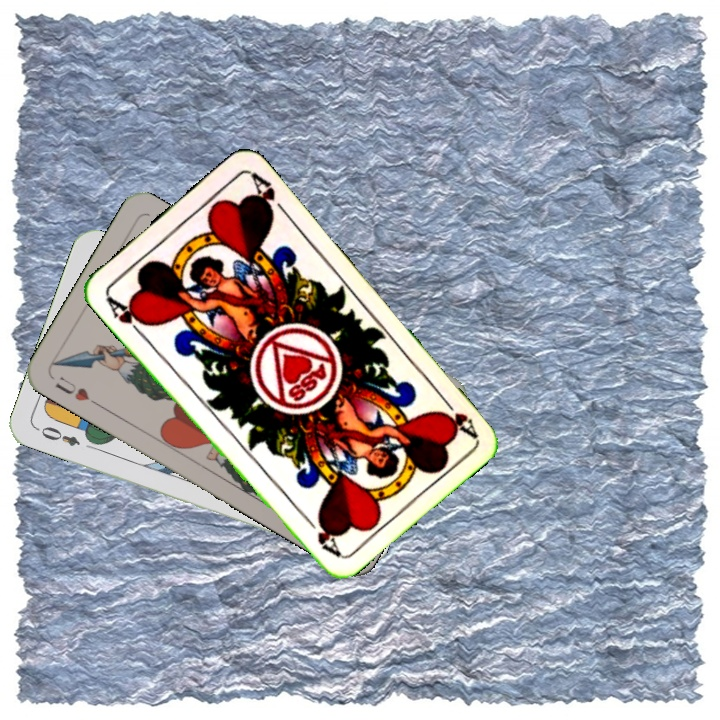EO: (32, 422, 83, 449)
HA: (101, 291, 153, 340), (434, 390, 480, 440)
HU: (51, 372, 102, 409)
